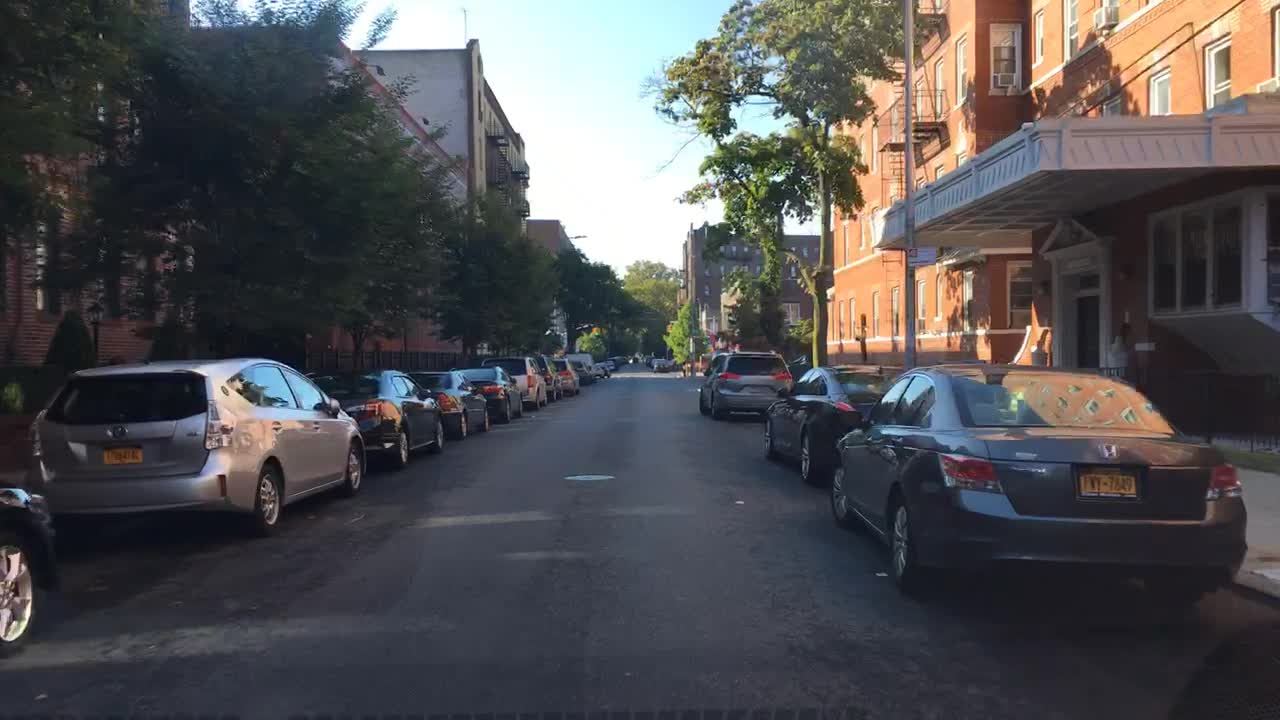car: (829, 362, 1250, 613), (26, 357, 366, 535), (759, 367, 905, 488), (309, 371, 449, 467), (0, 484, 61, 657), (698, 349, 793, 417), (406, 371, 490, 440), (453, 367, 528, 422), (479, 357, 549, 411), (528, 356, 563, 397), (552, 358, 578, 393), (572, 365, 591, 383), (592, 361, 609, 381), (570, 352, 595, 362), (649, 356, 665, 366), (642, 356, 656, 365), (614, 354, 624, 366), (657, 361, 669, 371), (623, 354, 636, 363), (605, 360, 615, 369)
traffic light: (591, 325, 600, 337)
traffic sign: (909, 247, 938, 267)
